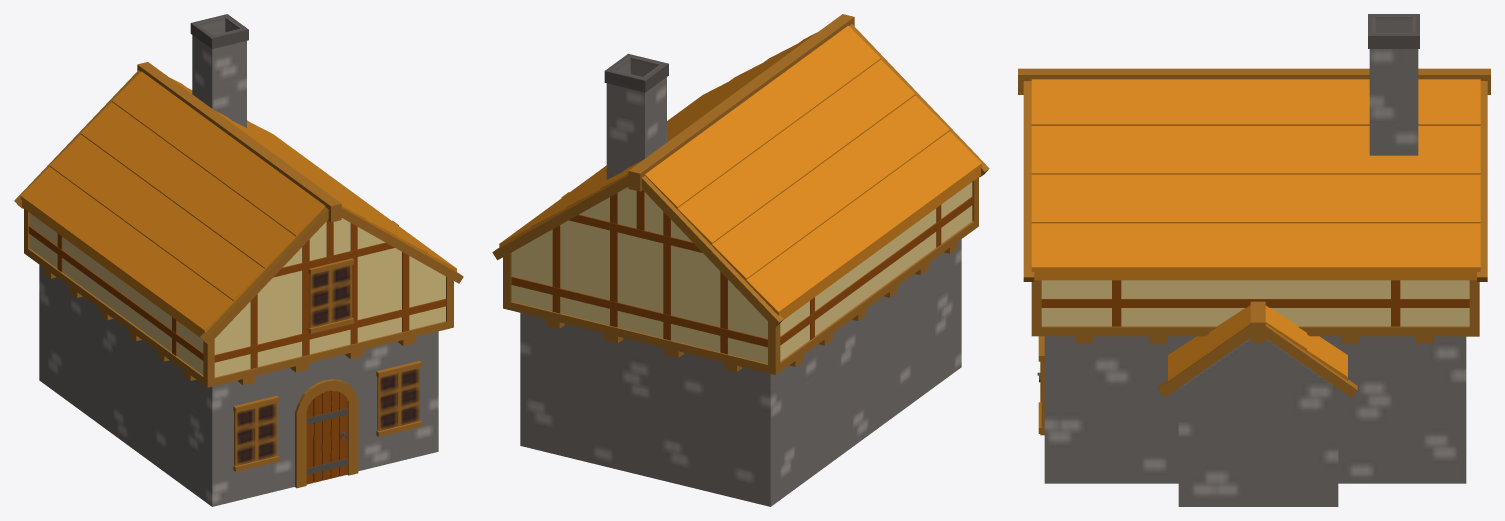
File: kit-cottage.glb
3 renders of one model, left to right at view 1: azimuth 30°, elevation 25°; view 2: azimuth 150°, elevation 25°; view 3: azimuth 270°, elevation 25°, orthographic. The views are drawn at different scales.
Parts seen in each view (by area): view 1: Cube.395; view 2: Cube.395; view 3: Cube.395.
Part boxes in pixels (x1,y1,x2,y2): Cube.395: [14, 14, 463, 506]; Cube.395: [492, 14, 989, 506]; Cube.395: [1018, 14, 1490, 506].
Size of the model in its own units: 5.71 by 6.43 by 6.66.
1 material, 1 textured.
